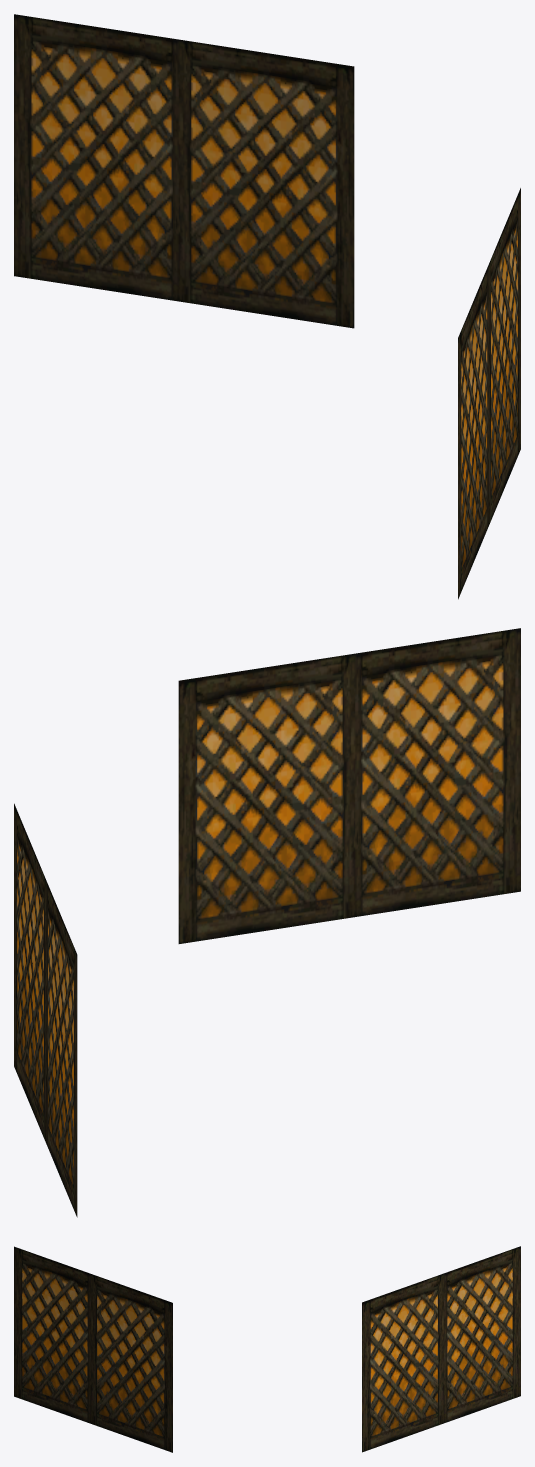
Rendered from LAKETOWN_EXTERIOR_PS_LT_WINDOWS956.fbx.
3 views of the same model, one above another, from view 1: azimuth 30°, elevation 25°; view 2: azimuth 150°, elevation 25°; view 3: azimuth 270°, elevation 25° (orthographic). The views are drawn at different scales.
Visible parts, largest first — view 1: LAKETOWN_EXTERIOR_PS_LT_WINDOWS956; view 2: LAKETOWN_EXTERIOR_PS_LT_WINDOWS956; view 3: LAKETOWN_EXTERIOR_PS_LT_WINDOWS956.
Boxes of the visible parts, x1,y1,x2,y2 form: LAKETOWN_EXTERIOR_PS_LT_WINDOWS956: [14, 14, 520, 599]; LAKETOWN_EXTERIOR_PS_LT_WINDOWS956: [14, 628, 520, 1217]; LAKETOWN_EXTERIOR_PS_LT_WINDOWS956: [14, 1246, 520, 1452].
Bounding box in the file's own units: 12665 × 15617 × 47827.
Materials: 1 (1 with a texture image).
